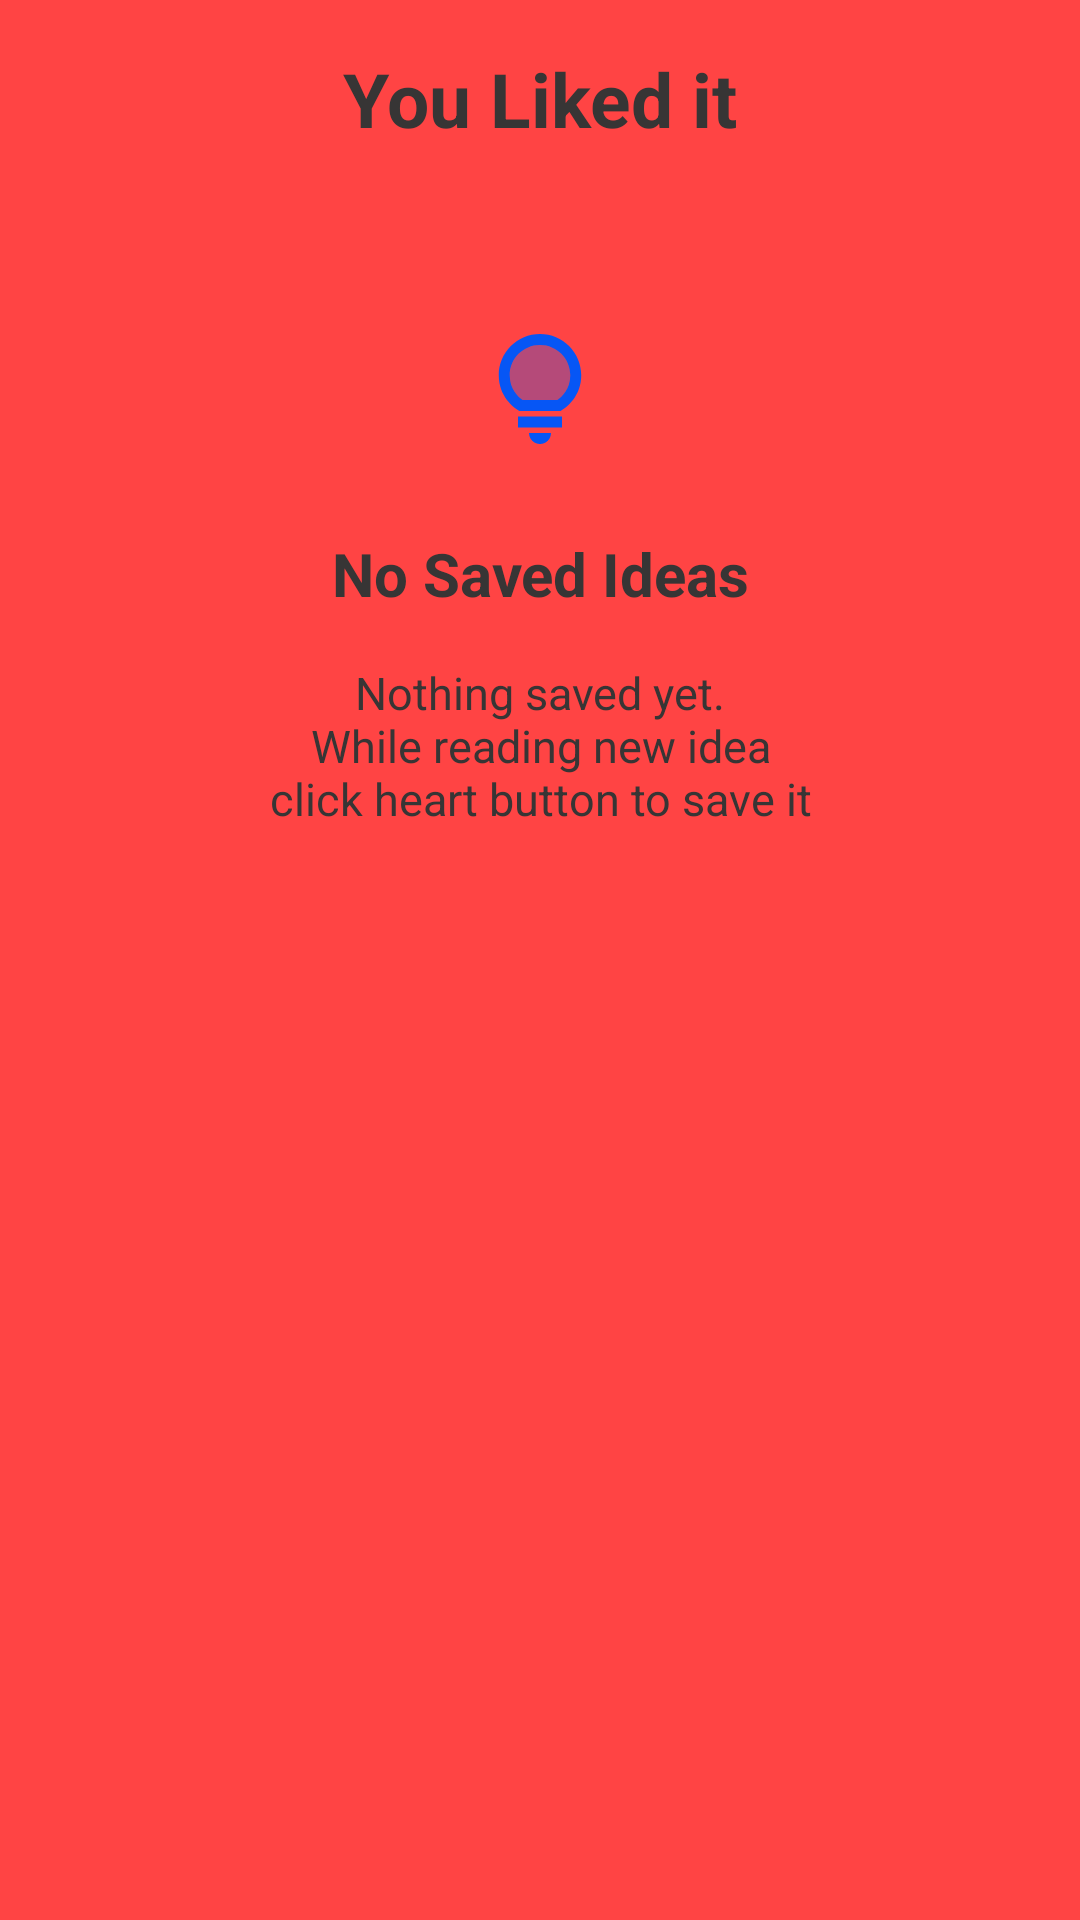

Icons on this 1080px×1920px Android screen, each with its box as [x1,y1,x2,y2]:
lightbulb: [498,334,582,444]
